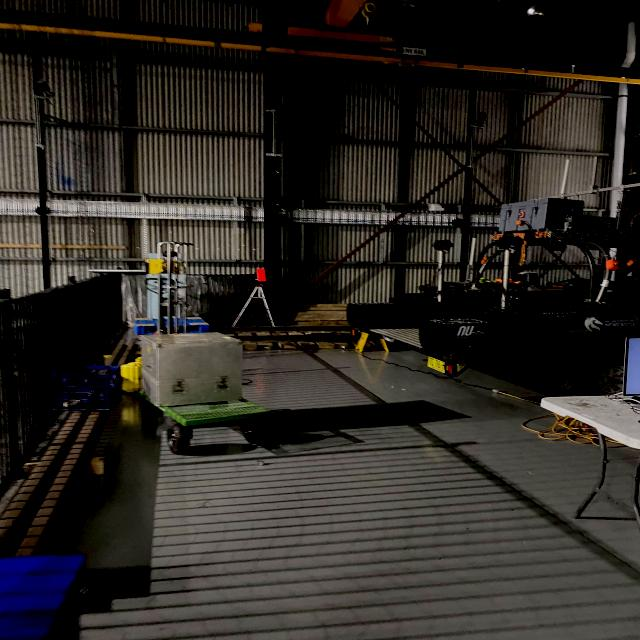matrix: (255, 267, 268, 282)
